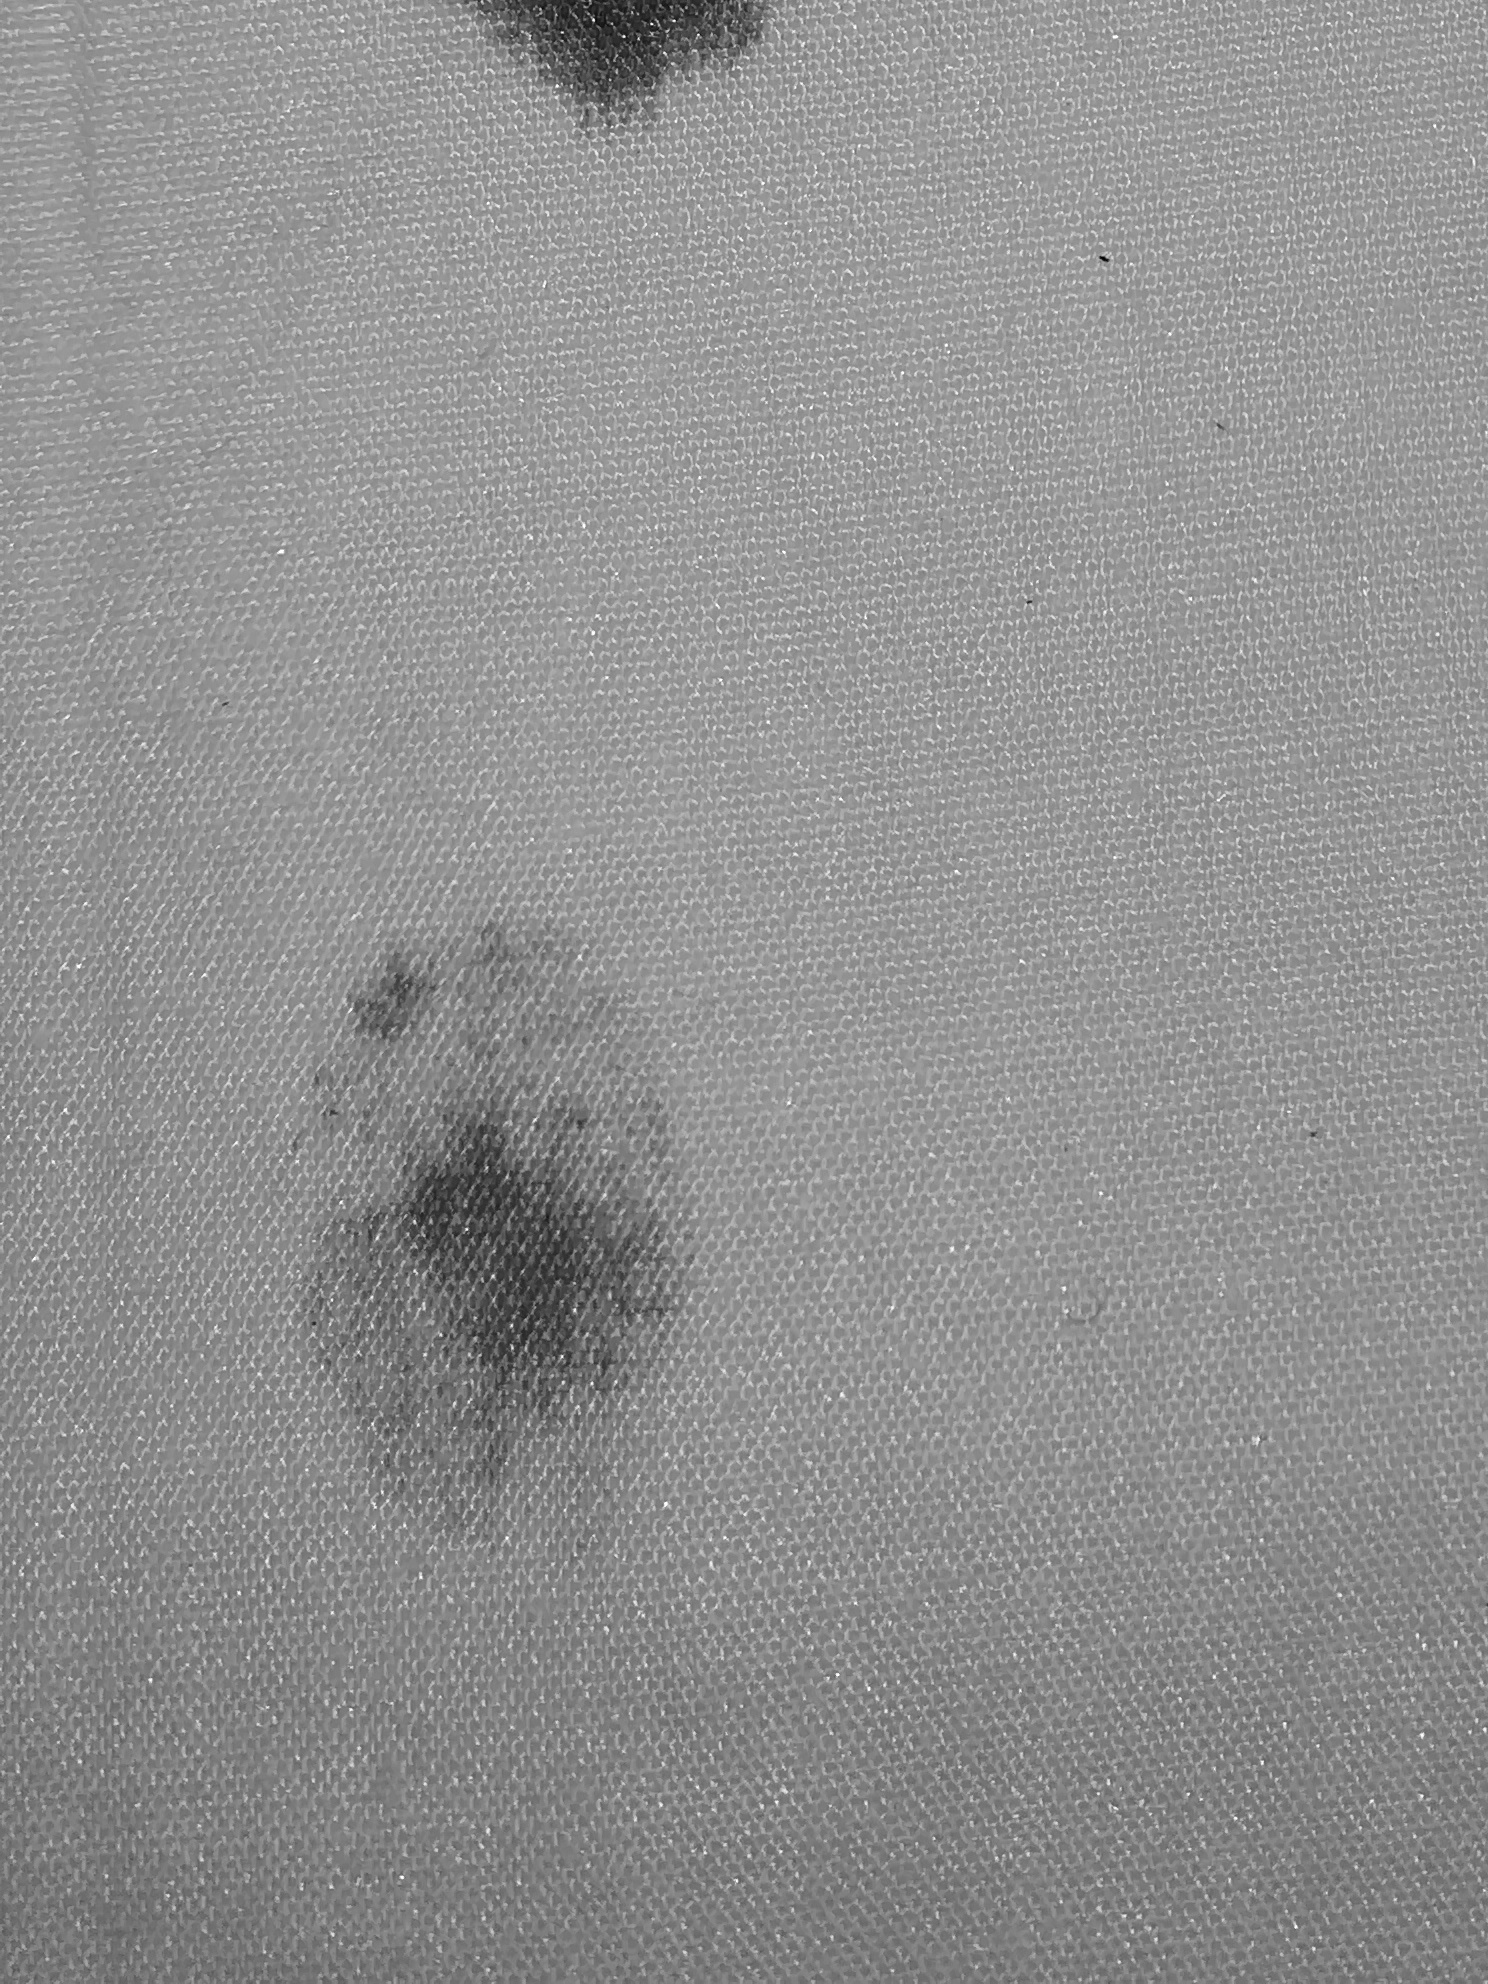Stain: (200, 787, 775, 1608), (367, 2, 871, 209)
